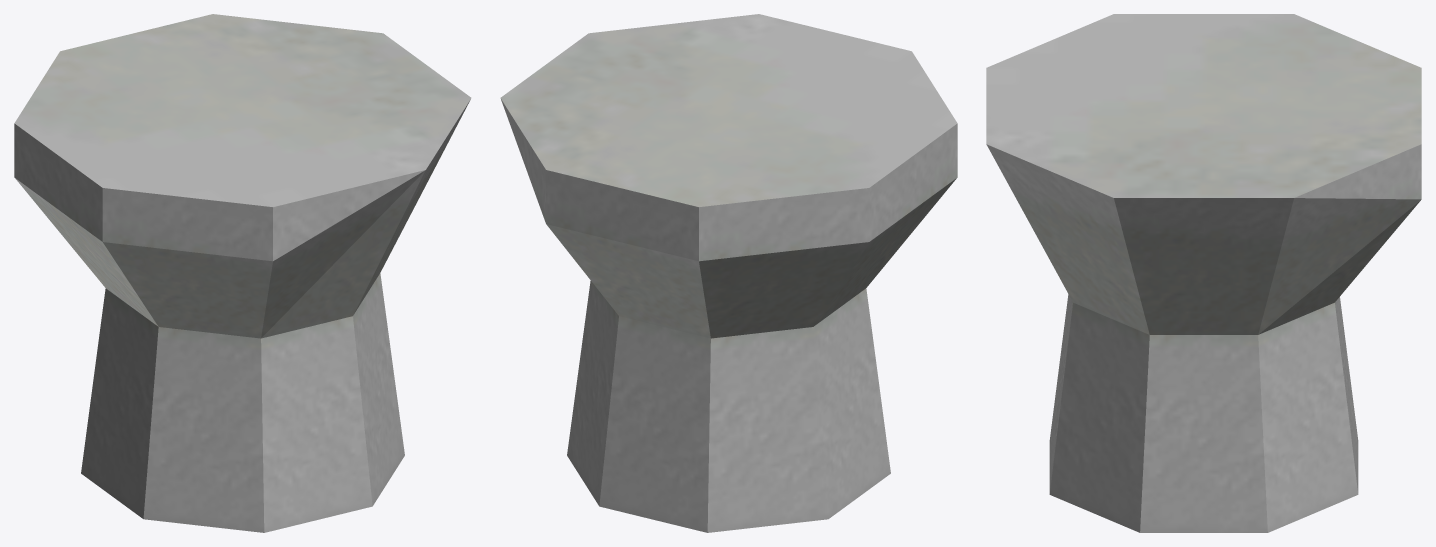
File: general_obj_bigtower11_lod_01.fbx
The picture shows the model from 3 angles, left to right: view 1: azimuth 30°, elevation 25°; view 2: azimuth 150°, elevation 25°; view 3: azimuth 270°, elevation 25°; orthographic projection. The views are drawn at different scales.
Visible parts, largest first — view 1: Sphere01; view 2: Sphere01; view 3: Sphere01.
Boxes of the visible parts, bbox=[...] form: Sphere01: bbox=[14, 14, 471, 532]; Sphere01: bbox=[500, 14, 957, 532]; Sphere01: bbox=[986, 14, 1421, 532].
Bounding box in the file's own units: 4.31 × 3.95 × 4.31.
